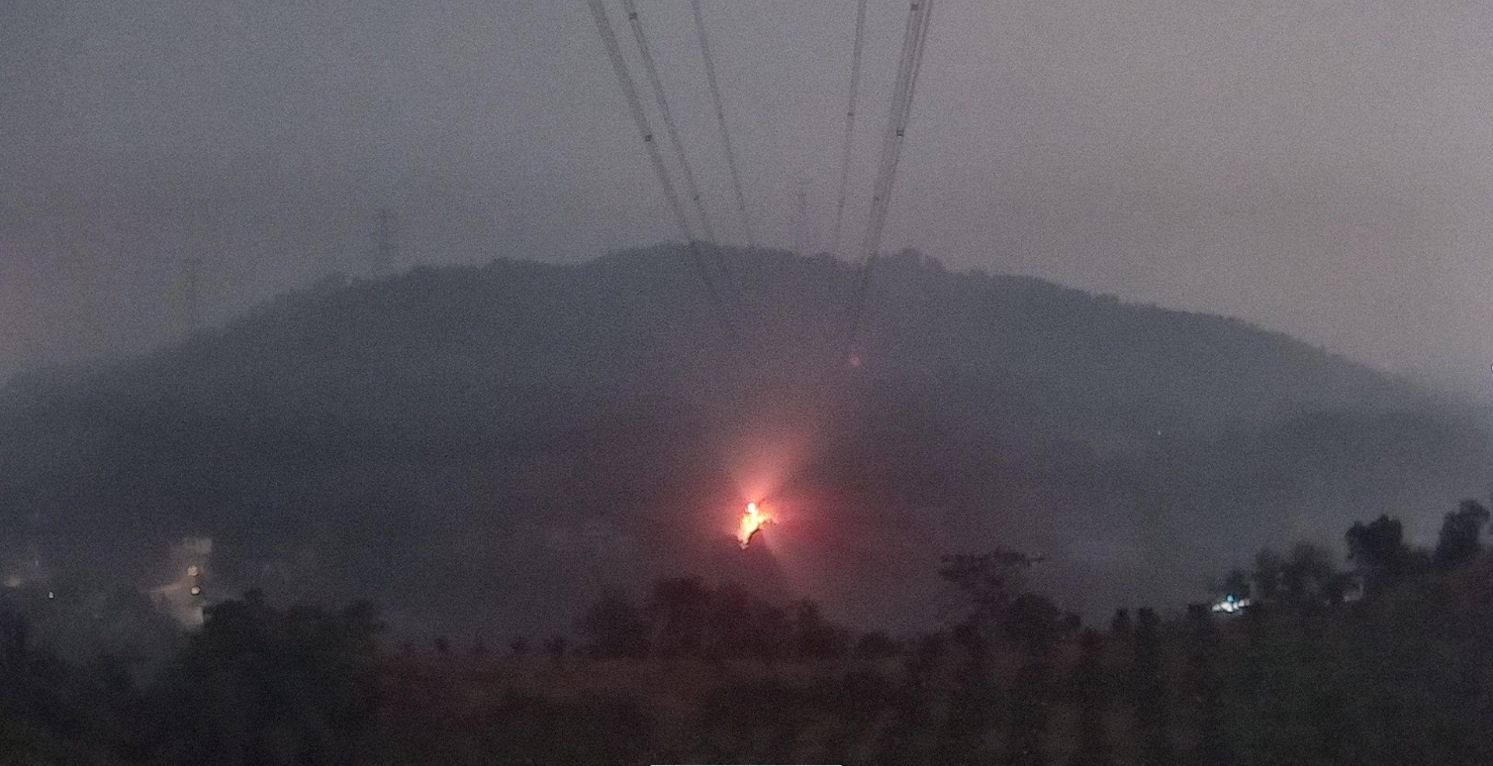山火: (736, 500, 772, 549)
